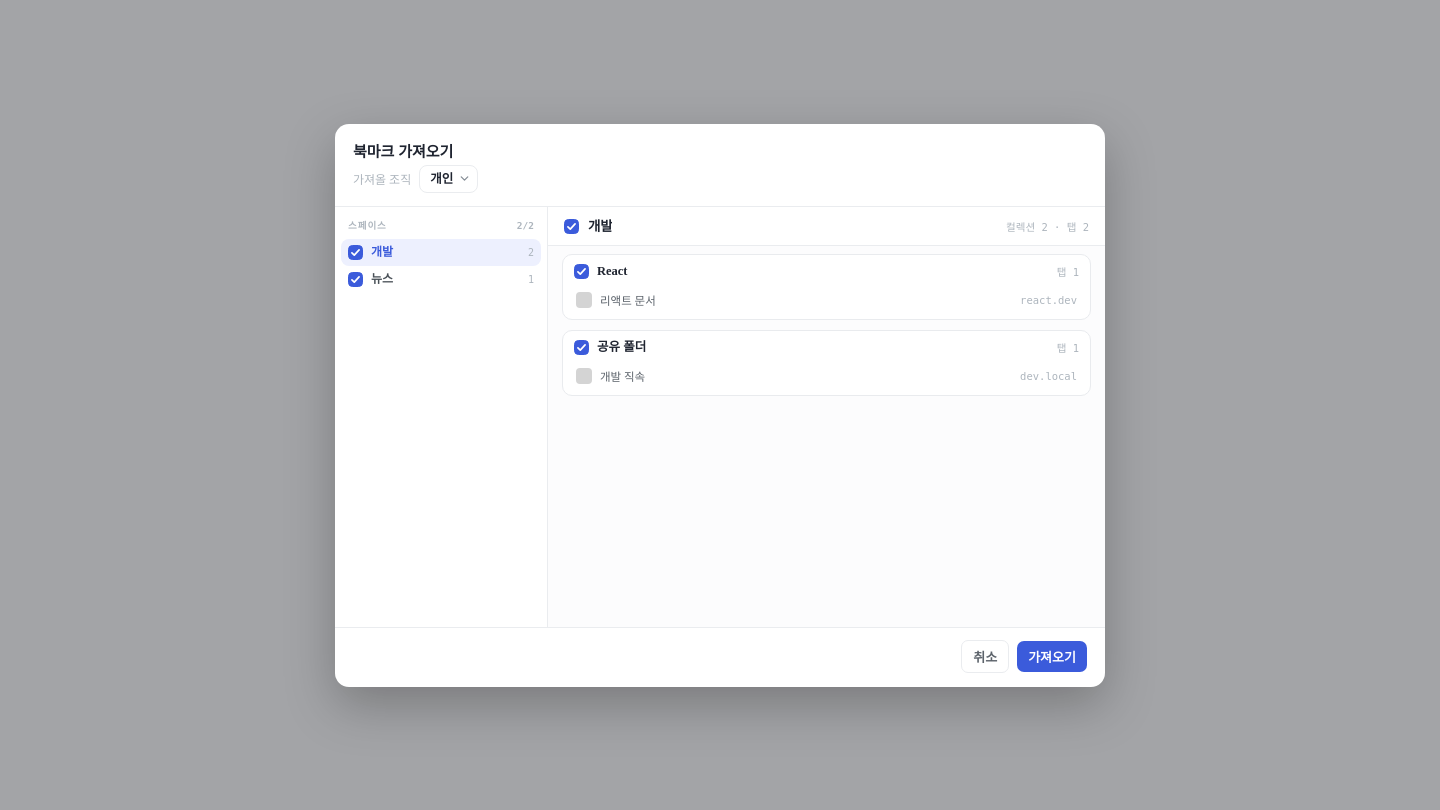
it: ImportBookmarksDialog › 스페이스를 꺼도 보드에 컬렉션이 남아 다시 켤 수 있다
The width and height of the screenshot is (1440, 810).
Click the checkbox named "개발 포함" below "스페이스".
click(356, 252)  # box [348,244,363,260]
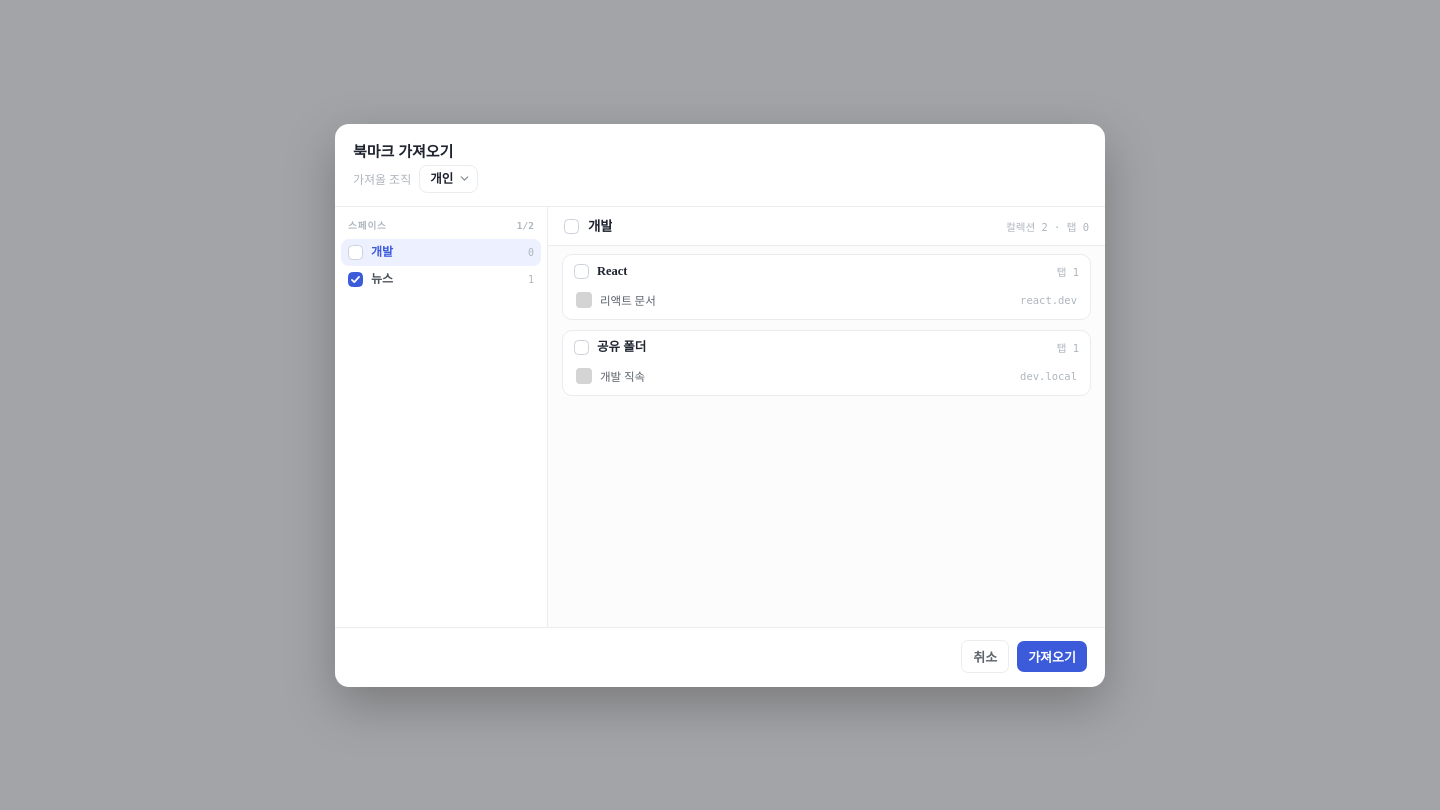
Expected: the element with test id "col-react" is shown, [562,254,1091,320]
Expected: the text with test id "space-count" reads "1/2", [517,220,534,230]
Click the checkbox named "개발 포함" below "스페이스".
click(356, 252)  # box [348,244,363,260]
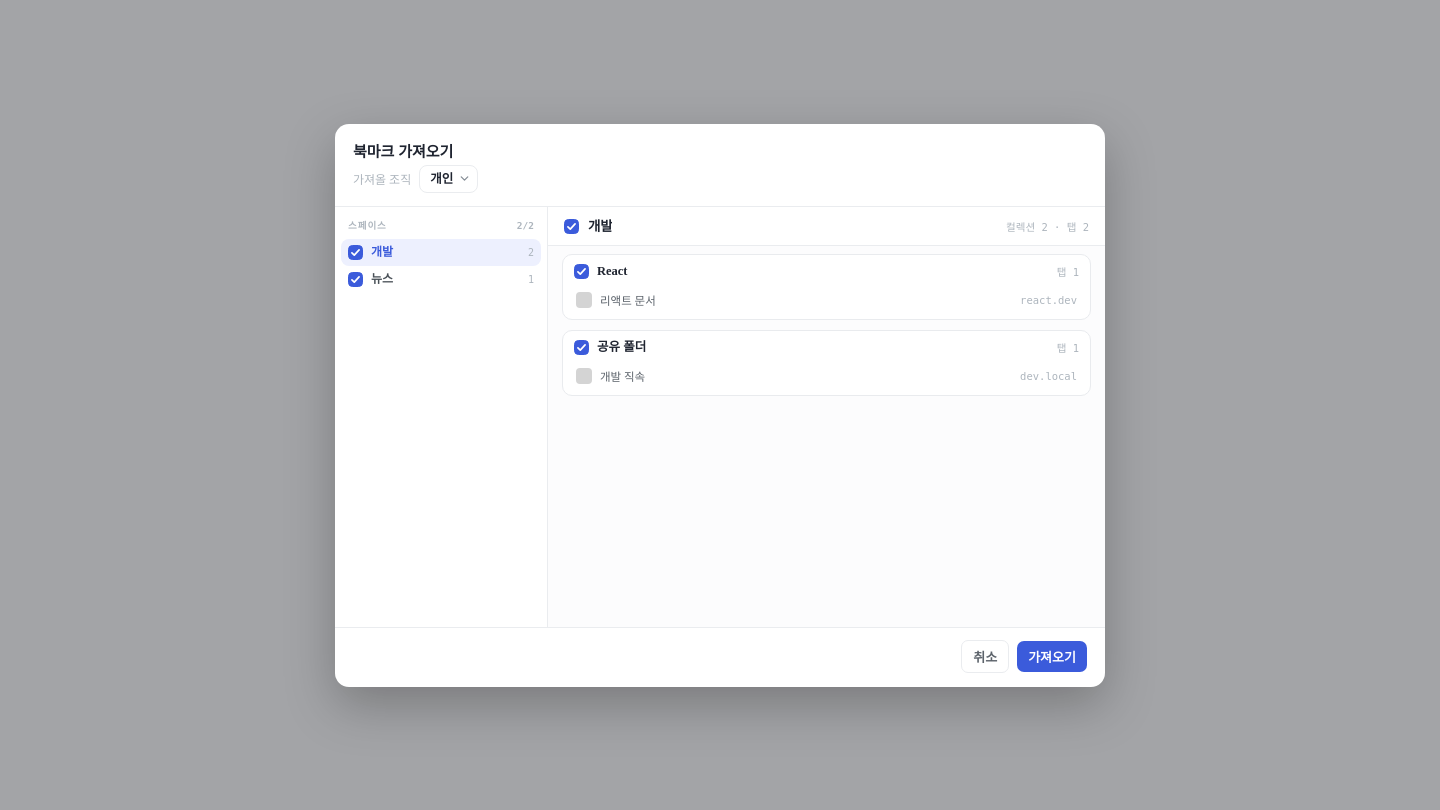
Expected: the text with test id "space-count" reads "2/2", [517,220,534,230]
